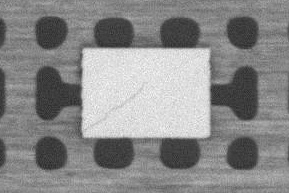DIE_CRACK: (82, 81, 148, 133)
